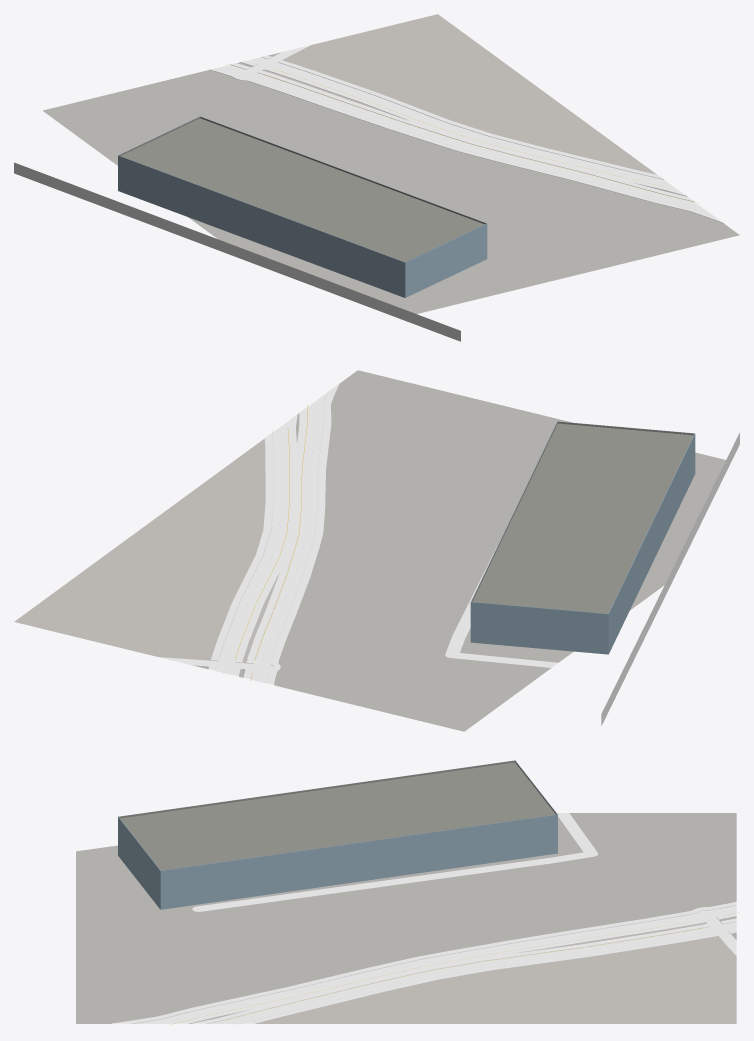
The picture shows the model from 3 angles, top to bottom: view 1: azimuth 30°, elevation 25°; view 2: azimuth 150°, elevation 25°; view 3: azimuth 270°, elevation 25°; orthographic projection. The views are drawn at different scales.
Visible parts, largest first — view 1: ground, roofs, walls, asphalt, sidewalk, coast, markings; view 2: ground, roofs, asphalt, walls, sidewalk, coast, markings; view 3: ground, roofs, walls, asphalt, sidewalk, markings.
Boxes of the visible parts, left/top/right/bottom form: ground: left=43, top=14, right=739, bottom=313; roofs: left=118, top=116, right=486, bottom=262; walls: left=118, top=155, right=487, bottom=297; asphalt: left=216, top=45, right=712, bottom=215; sidewalk: left=209, top=55, right=723, bottom=223; coast: left=14, top=162, right=460, bottom=341; markings: left=219, top=60, right=711, bottom=215; ground: left=14, top=370, right=725, bottom=731; roofs: left=471, top=421, right=694, bottom=613; asphalt: left=158, top=392, right=558, bottom=683; walls: left=470, top=434, right=695, bottom=654; sidewalk: left=208, top=383, right=339, bottom=684; coast: left=601, top=432, right=739, bottom=725; markings: left=219, top=392, right=327, bottom=681; ground: left=76, top=813, right=736, bottom=1023; roofs: left=118, top=760, right=557, bottom=870; walls: left=118, top=814, right=557, bottom=909; asphalt: left=133, top=813, right=736, bottom=1023; sidewalk: left=112, top=901, right=736, bottom=1023; markings: left=135, top=906, right=738, bottom=1026.
Size of what is drawn, in the model's own units: 227 by 21.23 by 275.
